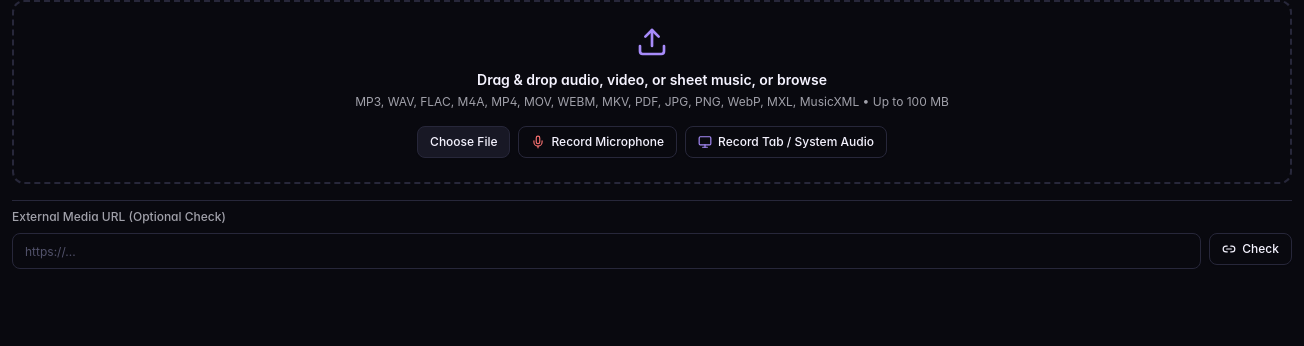
Test: Browser Tab / System Audio Recording › stops every acquired track and shows exact guidance when no audio track is detected
Click the button "Record Tab / System Audio" at {"x": 786, "y": 142}, box [685,126,887,158]
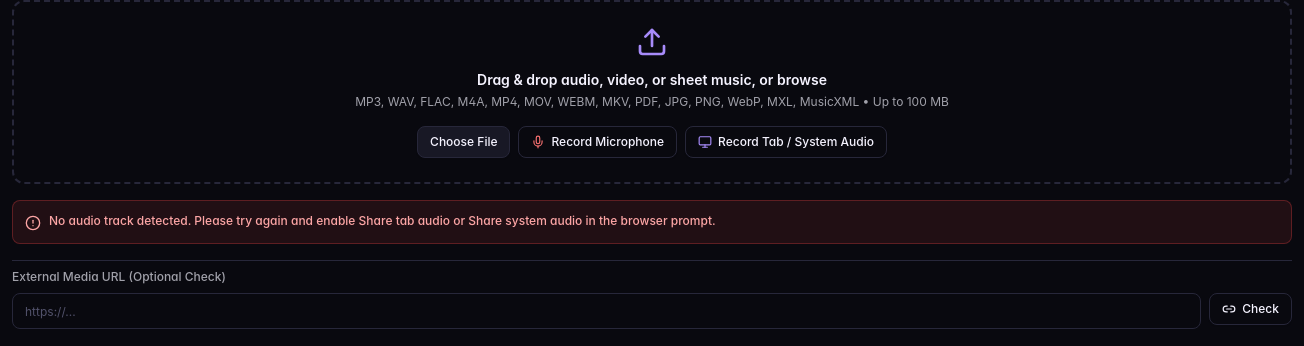
Result: the message shows "No audio track detected. Please try again and enable Share tab audio or Share system audio in the browser prompt." at [49,213,716,228]
